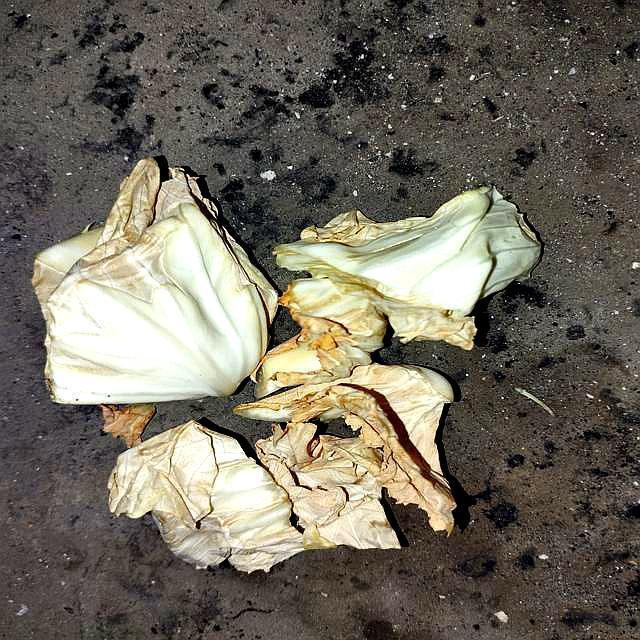Biodegradable: (35, 153, 537, 561)
